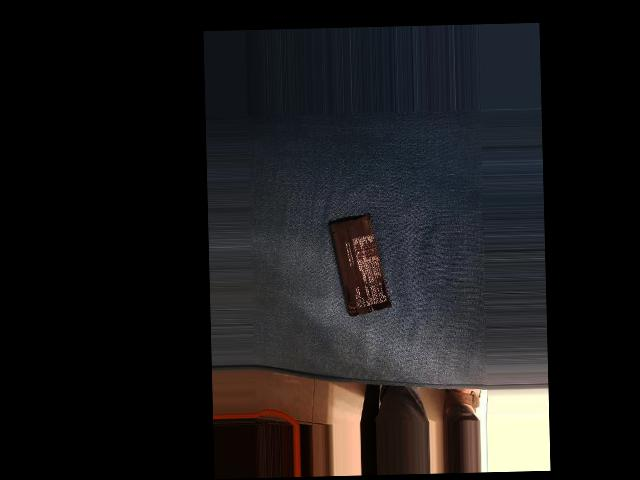chocolate: (326, 213, 400, 319)
